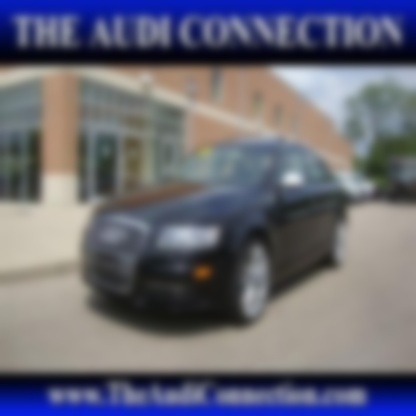Vehicle: (66, 127, 367, 342)
